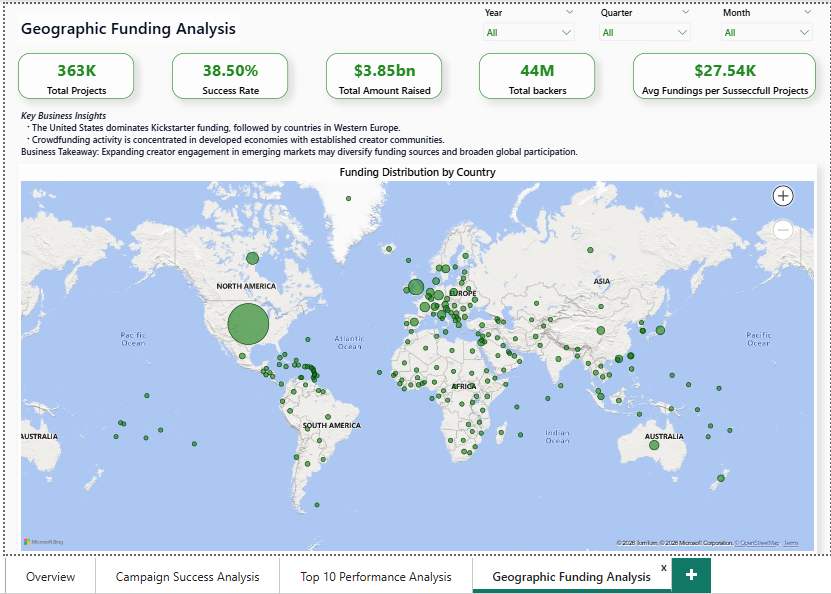

The page's visual inventory and layout, read from the dashboard file:
{"tool":"powerbi","page":{"name":"Geographic Funding Analysis","canvas":[1350,900],"ordinal":3},"visuals":[{"type":"card","title":"Total Backers ","fields":{"Values":["Measures Table.Total backers"]},"box":[776,79.6,190,75],"z":0},{"type":"card","title":"Total Amount Raised","fields":{"Values":["Measures Table.Total Amount Raised"]},"box":[524.5,80.2,190,75],"z":1000},{"type":"card","title":"Avg Fundings per Susseccfull Projects","fields":{"Values":["Measures Table.Avg Fundings per Susseccfull Projects"]},"box":[1027.6,80.2,299.5,75.3],"z":2000},{"type":"slicer","title":"Month","fields":{"Values":["Projects.created_at_new.Variation.Date Hierarchy.Month"]},"box":[1166.7,3.3,160,75],"z":3000},{"type":"slicer","fields":{"Values":["Projects.created_at_new.Variation.Date Hierarchy.Year"]},"box":[777.3,3.3,160,75],"z":4000},{"type":"slicer","fields":{"Values":["Projects.created_at_new.Variation.Date Hierarchy.Quarter"]},"box":[967.1,3.3,160,75],"z":5000},{"type":"card","title":"Total Projects","fields":{"Values":["Measures Table.Total Projects"]},"box":[21.3,80.2,190,75.3],"z":6000},{"type":"card","title":"Success Rate","fields":{"Values":["Measures Table.Success Rate"]},"box":[272.9,80.5,190,75],"z":7000},{"type":"map","title":"Funding Distribution by Country","fields":{"Category":["Location.country"],"Size":["Measures Table.Total Amount Raised"]},"box":[21.3,261.8,1307.5,638.2],"z":8000},{"type":"textbox","box":[21.7,15,363.3,50],"z":9000},{"type":"textbox","box":[21.3,171.8,1047.3,90],"z":10000}]}

Visuals, with their boxes in screenshot pixels (x1, y1, x2, y2):
"Total Backers " card: <box>478,35,597,82</box>
"Total Amount Raised" card: <box>319,35,439,83</box>
"Avg Fundings per Susseccfull Projects" card: <box>636,35,824,83</box>
"Month" slicer: <box>723,0,824,34</box>
slicer - Projects.created_at_new.Variation.Date Hierarchy.Year: <box>478,0,579,34</box>
slicer - Projects.created_at_new.Variation.Date Hierarchy.Quarter: <box>598,0,699,34</box>
"Total Projects" card: <box>3,35,122,83</box>
"Success Rate" card: <box>161,36,281,83</box>
"Funding Distribution by Country" map: <box>3,150,825,551</box>
textbox: <box>3,0,231,26</box>
textbox: <box>3,93,662,150</box>
